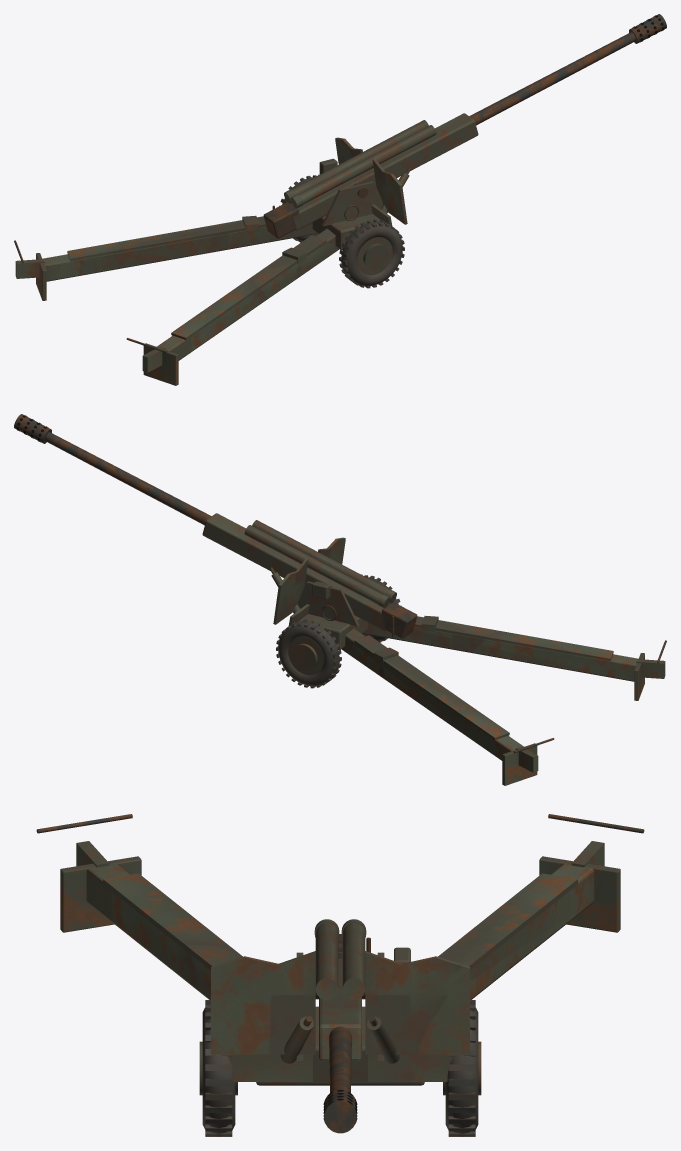
3 views of the same model, one above another, from view 1: azimuth 30°, elevation 25°; view 2: azimuth 150°, elevation 25°; view 3: azimuth 270°, elevation 25° (orthographic). The views are drawn at different scales.
Visible parts, largest first — view 1: M46_baked; view 2: M46_baked; view 3: M46_baked.
Part boxes in pixels (x1=…): M46_baked: x1=14, y1=14, x2=666, y2=385; M46_baked: x1=14, y1=414, x2=666, y2=785; M46_baked: x1=36, y1=814, x2=644, y2=1136.
Bounding box in the file's own units: 12.11 × 3.63 × 5.4.
Materials: 1 (1 with a texture image).
